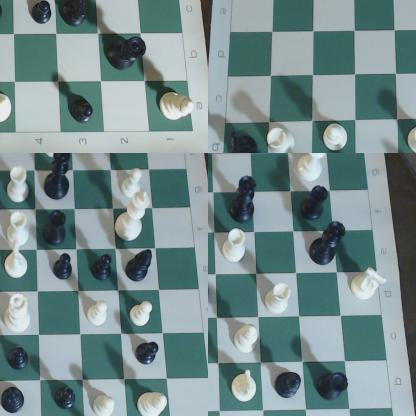black-bishop: (125, 249, 158, 285), (2, 384, 25, 416), (275, 372, 301, 400)
black-king: (53, 154, 79, 201)
black-knight: (60, 1, 91, 32), (226, 132, 261, 153)
black-pawn: (53, 379, 80, 414), (91, 249, 116, 286), (49, 254, 78, 284), (134, 339, 161, 371), (9, 345, 37, 374), (69, 95, 94, 127), (30, 1, 55, 30)
black-queen: (312, 220, 351, 267), (109, 34, 149, 77), (230, 177, 260, 223)
black-rook: (317, 370, 354, 408), (302, 187, 332, 223), (46, 210, 72, 247)
white-bishop: (156, 89, 197, 124), (135, 384, 168, 416), (323, 118, 349, 154), (233, 322, 260, 356)
white-king: (109, 190, 156, 247)
white-knight: (347, 266, 390, 305), (229, 369, 259, 404), (1, 93, 15, 126)
white-pawn: (128, 297, 155, 331), (88, 299, 111, 330), (89, 394, 116, 416), (48, 154, 63, 162)
white-queen: (5, 294, 35, 333), (295, 154, 332, 185)
white-rook: (262, 281, 295, 317), (218, 229, 248, 267), (7, 168, 34, 207), (263, 127, 299, 153), (3, 214, 30, 246), (409, 123, 416, 153)
